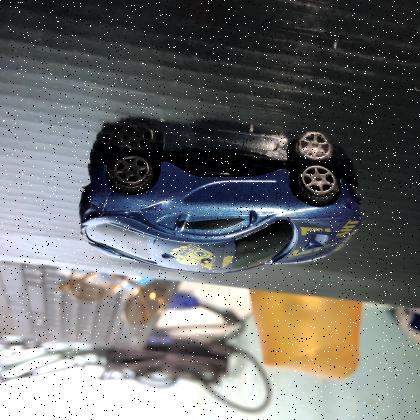Car: (71, 147, 373, 285)
